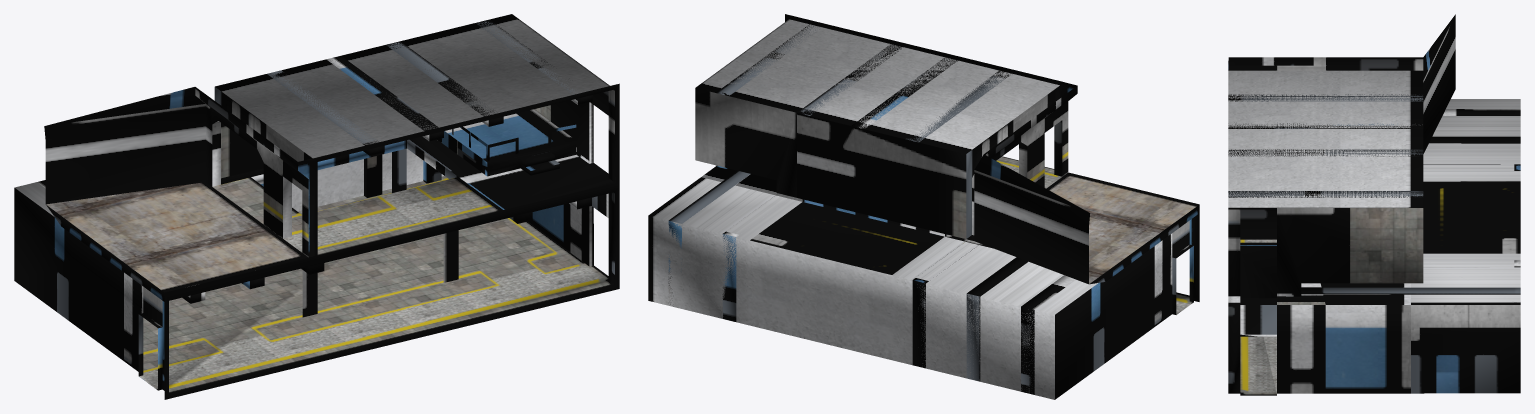
Rendered from vhod.fbx.
The picture shows the model from 3 angles, left to right: view 1: azimuth 30°, elevation 25°; view 2: azimuth 150°, elevation 25°; view 3: azimuth 270°, elevation 25°; orthographic projection. The views are drawn at different scales.
Visible parts, largest first — view 1: Объект Куб.6; view 2: Объект Куб.6; view 3: Объект Куб.6.
Boxes of the visible parts, box(x1,y1,x2,y2) form: Объект Куб.6: box(14, 14, 619, 399); Объект Куб.6: box(648, 14, 1199, 399); Объект Куб.6: box(1228, 14, 1520, 395).
Bounding box in the file's own units: 1530 × 660 × 900.
